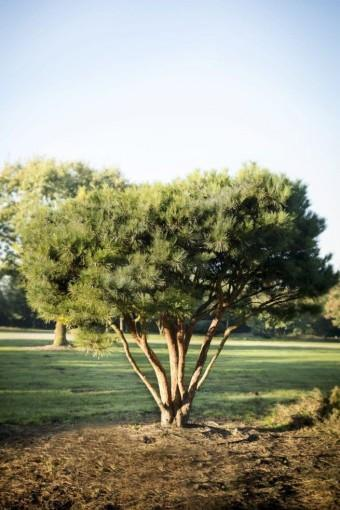tree: (11, 163, 336, 428)
